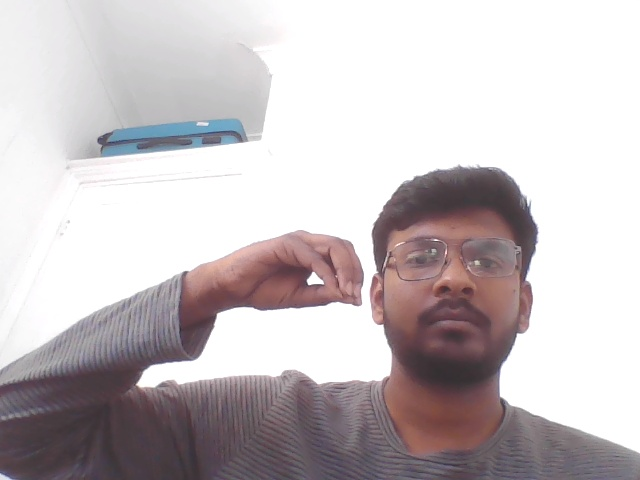Yes: (167, 194, 375, 380)
